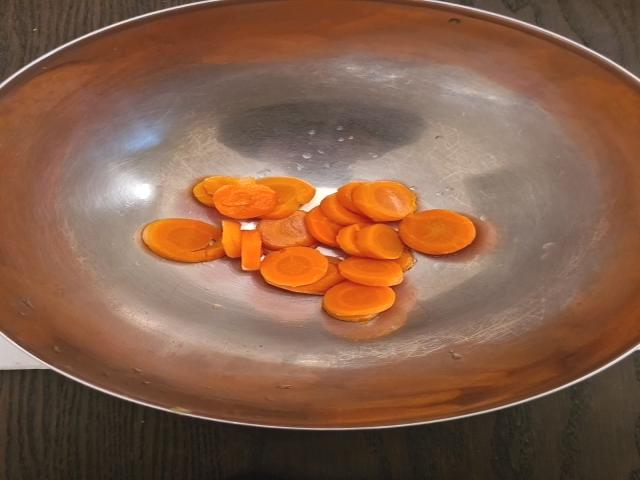kichen waste: (145, 178, 477, 322)
